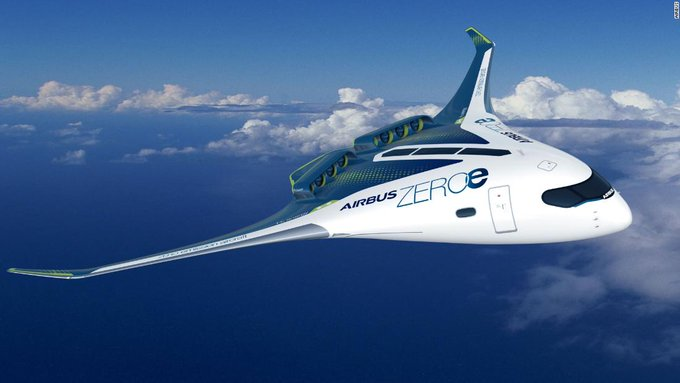airplane: (7, 28, 633, 281)
